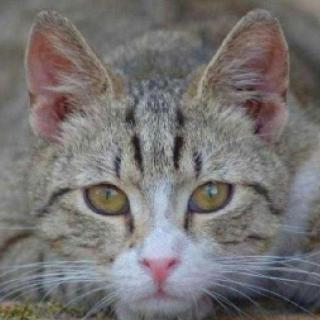cat: (15, 8, 299, 310)
nose: (136, 231, 193, 288)
